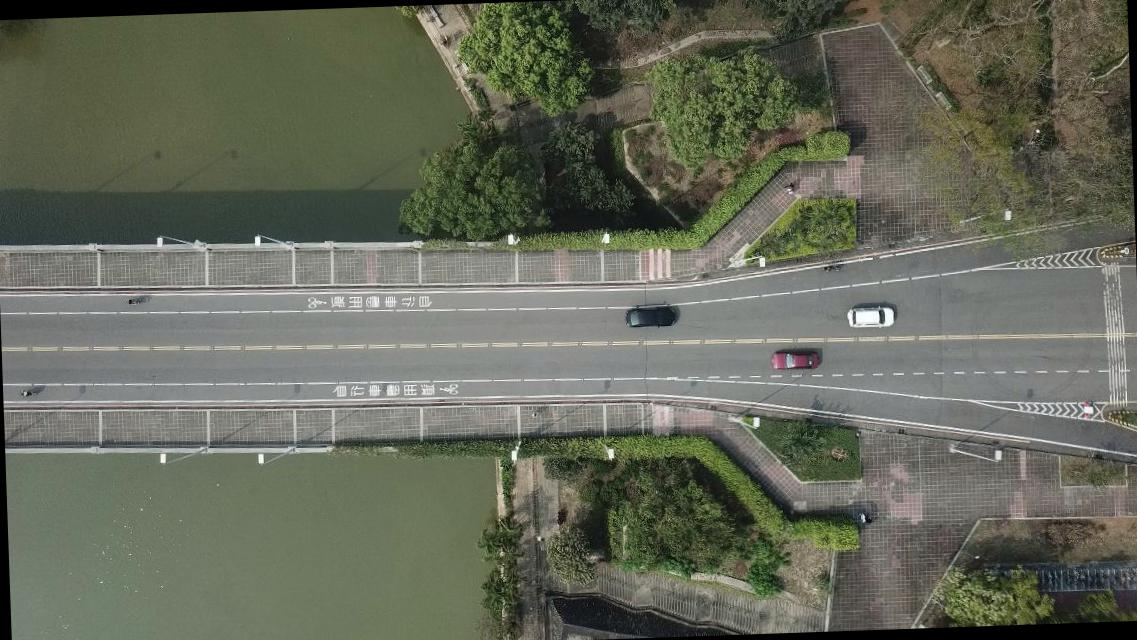vehicle: (623, 306, 676, 329), (846, 304, 894, 328), (770, 349, 818, 370)
